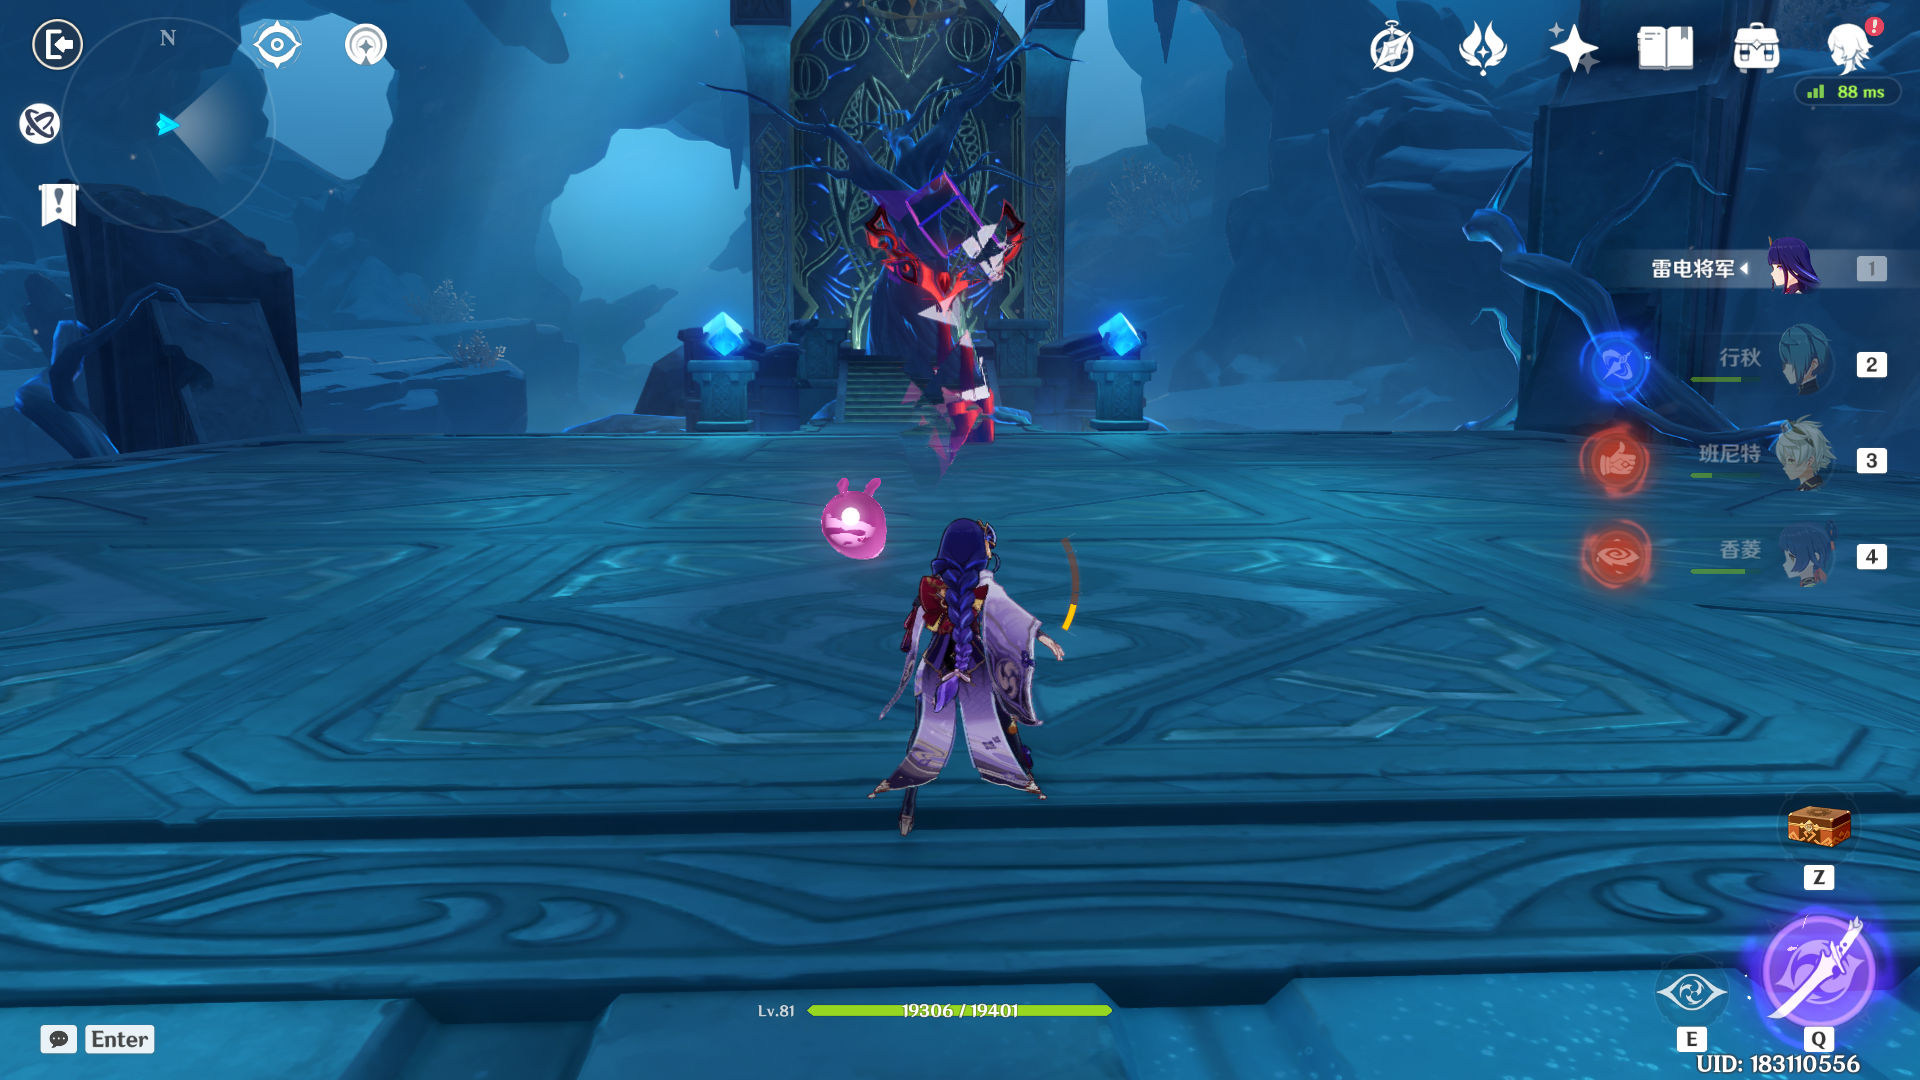character: (862, 487, 1076, 887)
